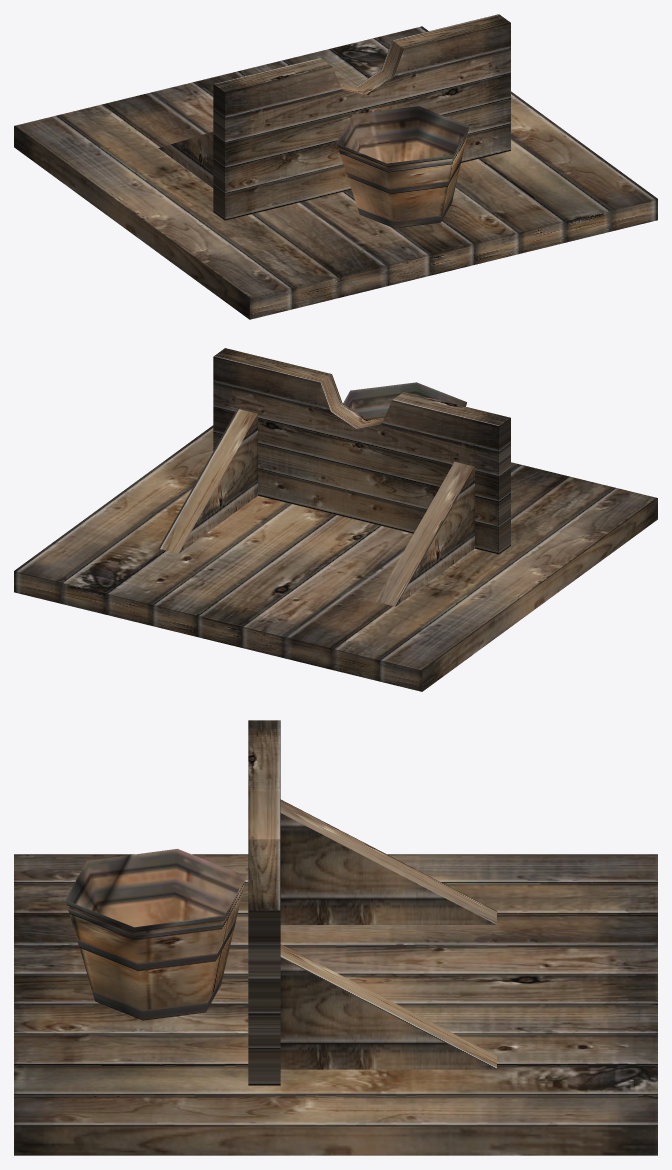
File: building_torture_block.glb
The picture shows the model from 3 angles, top to bottom: view 1: azimuth 30°, elevation 25°; view 2: azimuth 150°, elevation 25°; view 3: azimuth 270°, elevation 25°; orthographic projection. The views are drawn at different scales.
Visible parts, largest first — view 1: building_torture_block; view 2: building_torture_block; view 3: building_torture_block.
Boxes of the visible parts, <box> form: building_torture_block: <box>14,14,657,319</box>; building_torture_block: <box>14,348,657,691</box>; building_torture_block: <box>14,720,657,1155</box>.
Bounding box in the file's own units: 2.05 × 0.7175 × 2.05.
3 materials, 3 textured.
